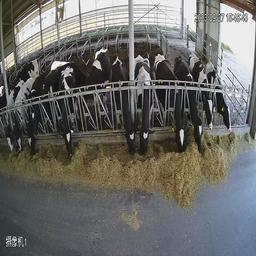cow: (155, 50, 188, 162), (75, 39, 112, 134), (176, 57, 205, 162), (111, 49, 135, 161), (187, 48, 216, 139), (56, 60, 80, 166), (133, 48, 154, 167), (204, 58, 235, 137), (31, 56, 53, 153), (10, 65, 31, 154), (3, 68, 18, 159)
